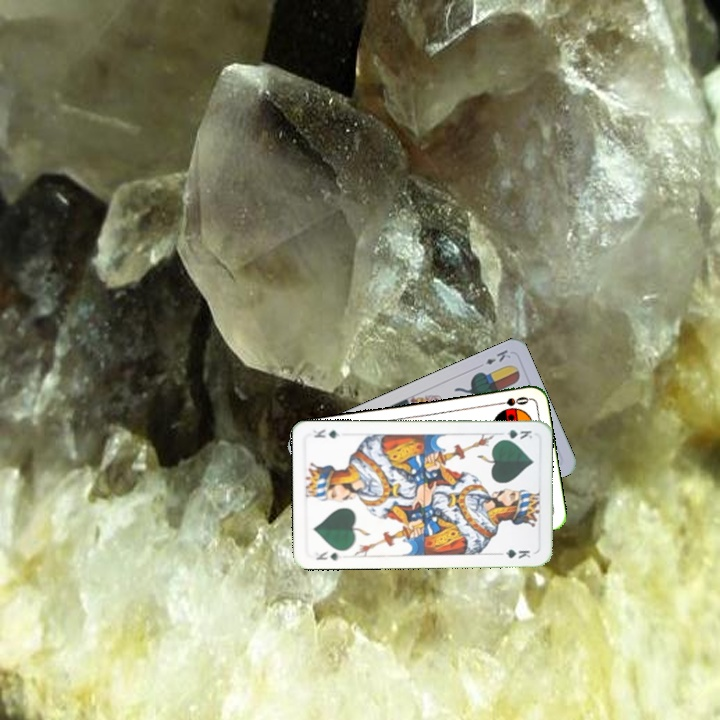EK: (481, 345, 513, 367)
GK: (496, 425, 535, 442), (312, 547, 344, 563)
SO: (491, 392, 531, 409)
